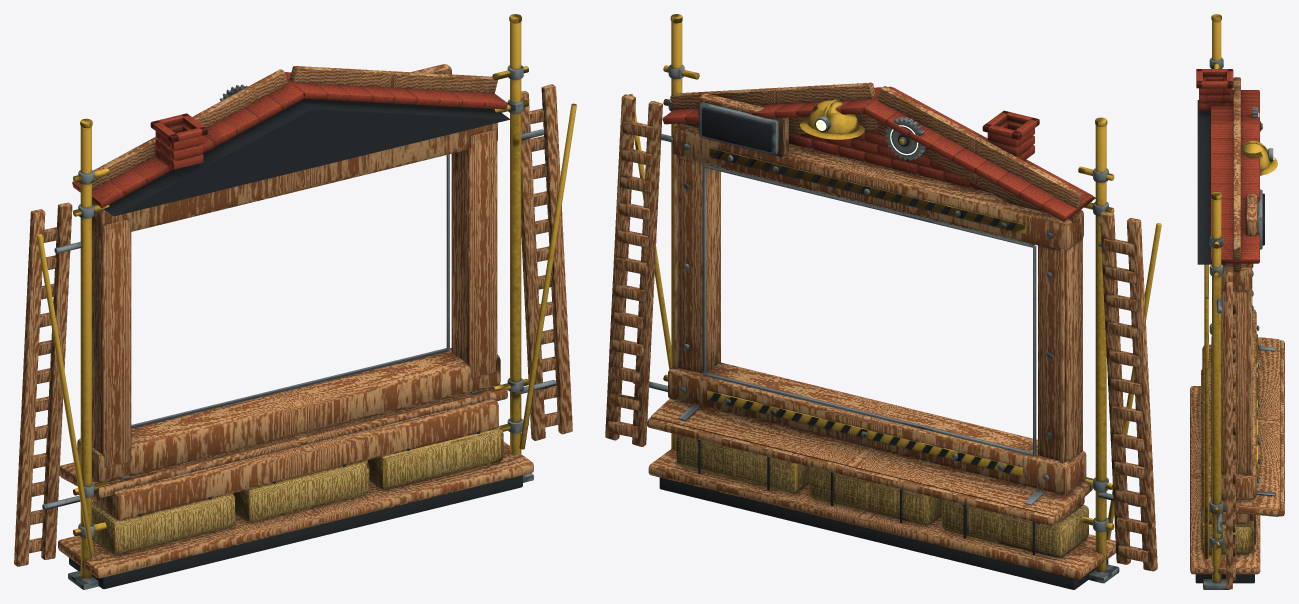
3 views of the same model, side by side, from view 1: azimuth 30°, elevation 25°; view 2: azimuth 150°, elevation 25°; view 3: azimuth 270°, elevation 25° (orthographic). The views are drawn at different scales.
Parts seen in each view (by area): view 1: Honey_oak, Charcoal, Ochre_painted_scaffold, Dry_straw_fibers, Red_clay, Worn_iron; view 2: Honey_oak, Ochre_painted_scaffold, Dry_straw_fibers, Red_clay, Charcoal, Worn_iron; view 3: Honey_oak, Red_clay, Ochre_painted_scaffold, Charcoal, Worn_iron, Dry_straw_fibers.
Part boxes in pixels (left/top/right/bottom): Honey_oak: left=14, top=64, right=572, bottom=578; Charcoal: left=69, top=99, right=522, bottom=589; Ochre_painted_scaffold: left=37, top=14, right=576, bottom=578; Dry_straw_fibers: left=92, top=426, right=503, bottom=554; Red_clay: left=72, top=72, right=507, bottom=207; Worn_iron: left=42, top=65, right=556, bottom=589; Honey_oak: left=605, top=82, right=1157, bottom=579; Ochre_painted_scaffold: left=628, top=14, right=1161, bottom=571; Dry_straw_fibers: left=675, top=434, right=1088, bottom=557; Red_clay: left=662, top=86, right=1093, bottom=221; Charcoal: left=659, top=108, right=1108, bottom=589; Worn_iron: left=633, top=65, right=1140, bottom=583; Honey_oak: left=1190, top=77, right=1284, bottom=589; Red_clay: left=1196, top=69, right=1259, bottom=263; Ochre_painted_scaffold: left=1204, top=14, right=1277, bottom=582; Charcoal: left=1195, top=100, right=1264, bottom=583; Worn_iron: left=1203, top=57, right=1275, bottom=589; Dry_straw_fibers: left=1201, top=369, right=1254, bottom=553.
Bounding box in the file's own units: 11.48 × 9.1 × 2.
Materials: 7 (6 with a texture image).
